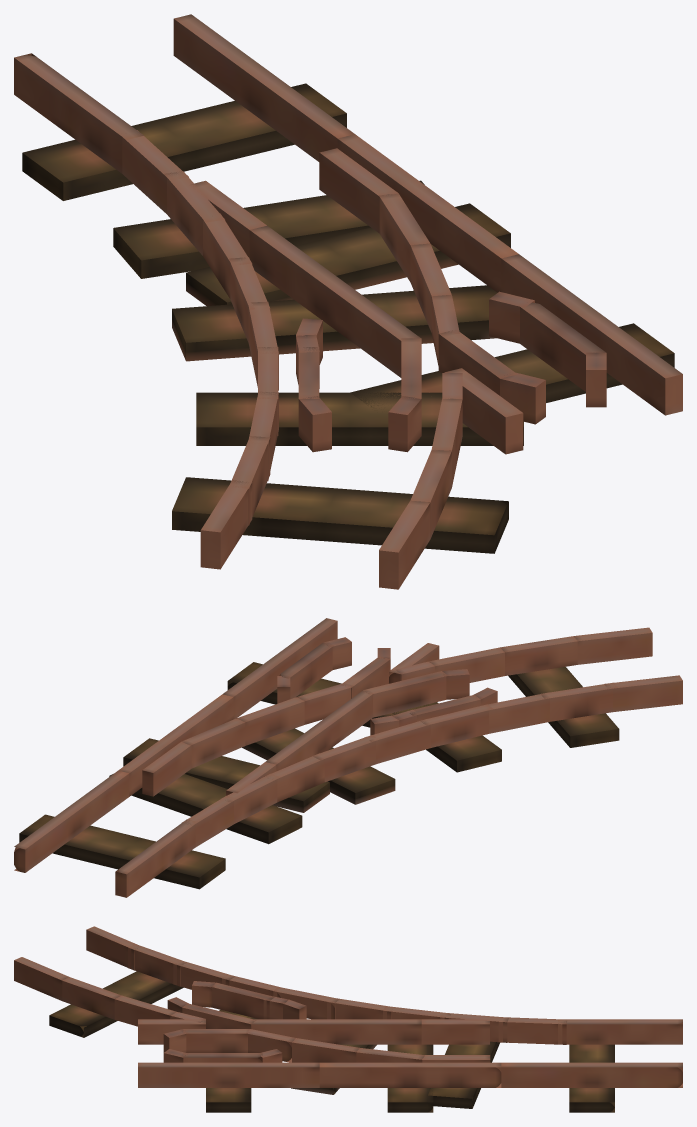
File: switch1.obj
3 renders of one model, top to bottom at view 1: azimuth 30°, elevation 25°; view 2: azimuth 150°, elevation 25°; view 3: azimuth 270°, elevation 25°, orthographic. The views are drawn at different scales.
Visible parts, largest first — view 1: cube; view 2: cube; view 3: cube.
Part boxes in pixels (box(x1,y1,x2,y2)): cube: box(14, 14, 682, 589); cube: box(14, 618, 682, 897); cube: box(14, 926, 682, 1112).
Bounding box in the file's own units: 32.4 × 3 × 58.91.
1 material, 1 textured.
